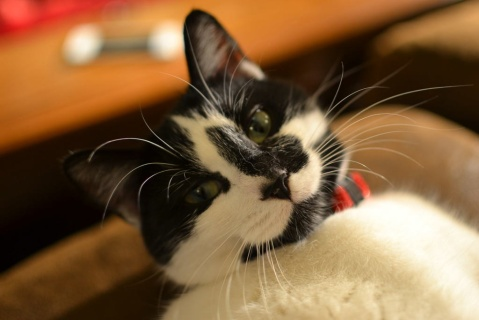Cat: (59, 9, 476, 319)
